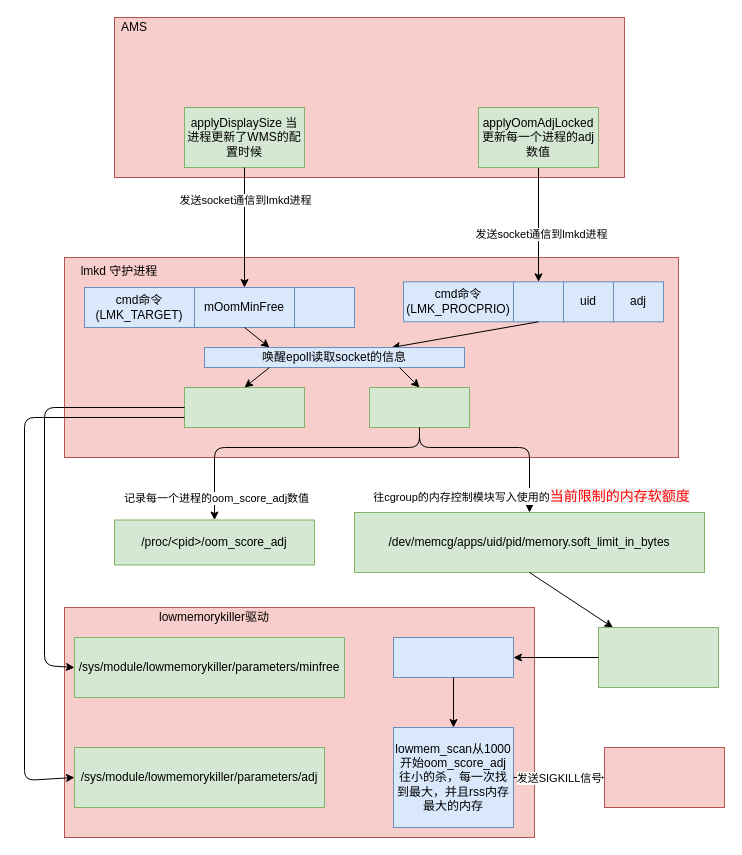
The diagram is 742 pixels wide and 855 high, and some of its shapes have lost their labels. The shapes that lost their labels are listed below. From the top down, each one's centre as x and y in pixels, then its label:
point 324,307: mOomAdj
point 538,301: pid
point 244,407: cmd_target
point 419,407: cmd_procprio
point 453,657: lowmem_shrinker
point 658,657: Linux内核线程kswapd 定时检测/或者oom
point 664,777: 杀死目标目标进程
